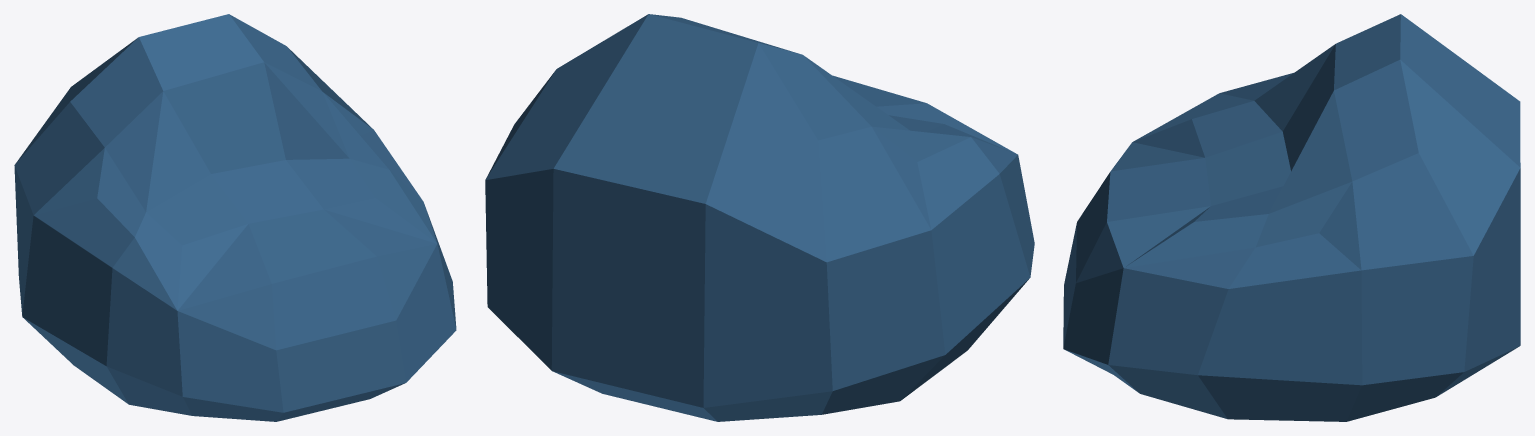
The model's file is SM_Prop_Chair_BeanBag_01.glb.
3 renders of one model, left to right at view 1: azimuth 30°, elevation 25°; view 2: azimuth 150°, elevation 25°; view 3: azimuth 270°, elevation 25°, orthographic. The views are drawn at different scales.
Visible parts, largest first — view 1: SM_Prop_Chair_BeanBag_01; view 2: SM_Prop_Chair_BeanBag_01; view 3: SM_Prop_Chair_BeanBag_01.
Boxes of the visible parts, x1,y1,x2,y2 form: SM_Prop_Chair_BeanBag_01: (14,14,456,421); SM_Prop_Chair_BeanBag_01: (485,14,1034,421); SM_Prop_Chair_BeanBag_01: (1063,14,1520,421).
Bounding box in the file's own units: 0.8087 × 0.6624 × 0.8256.
Materials: 1 (1 with a texture image).
